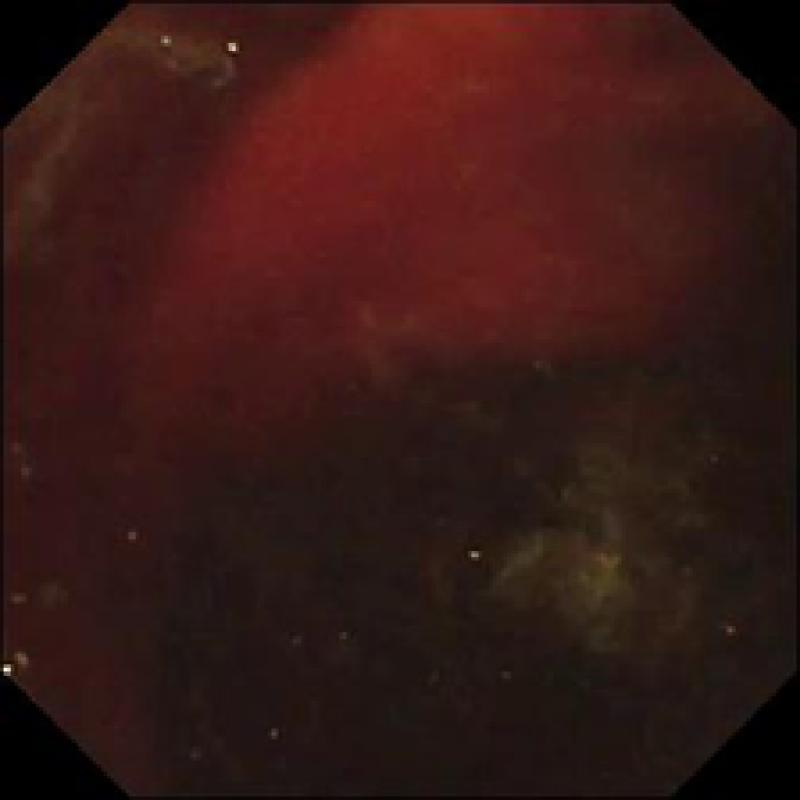bleeding: (43, 3, 800, 411)
